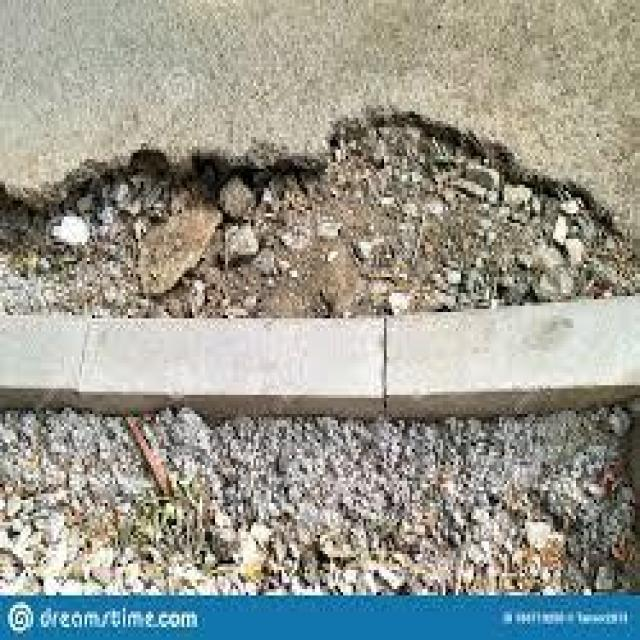curb: (1, 312, 640, 431)
